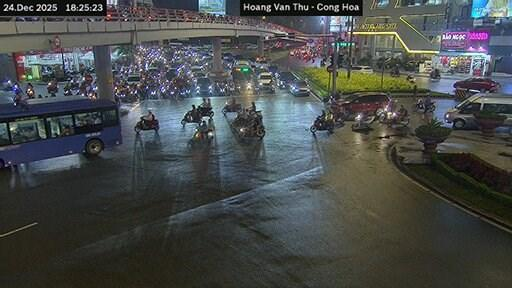motorbike: (188, 125, 214, 145), (237, 122, 265, 139), (377, 99, 396, 121), (381, 112, 408, 126), (352, 113, 373, 130), (310, 118, 332, 133), (134, 118, 157, 131), (182, 111, 201, 126), (412, 99, 435, 111), (221, 100, 240, 112), (12, 95, 28, 108), (198, 104, 213, 116), (47, 82, 57, 94), (70, 76, 79, 89), (429, 71, 440, 81), (25, 86, 34, 98), (3, 79, 12, 90), (406, 73, 415, 82), (390, 68, 400, 76), (429, 75, 440, 81), (64, 89, 71, 94)
